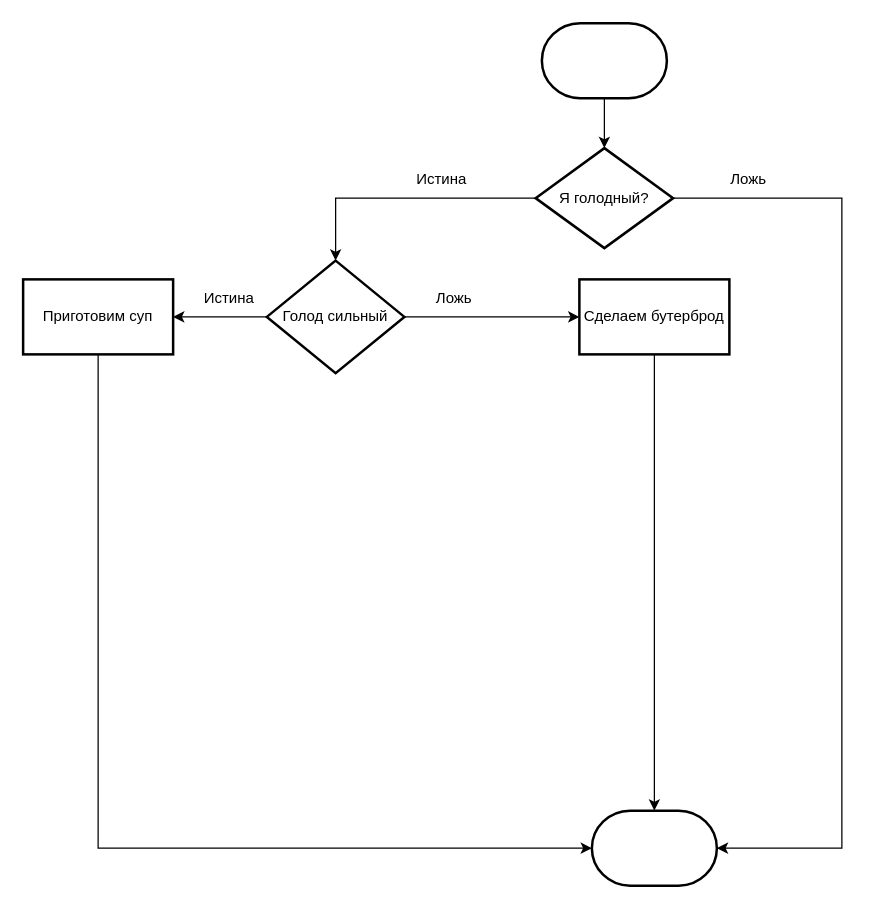
The diagram is 874 pixels wide and 908 high, and some of its shapes have lost their labels. Here are the shapes that lost their labels. From the top down, the centre of each, then its label:
(604,60): Перекус
(654,847): Конец
